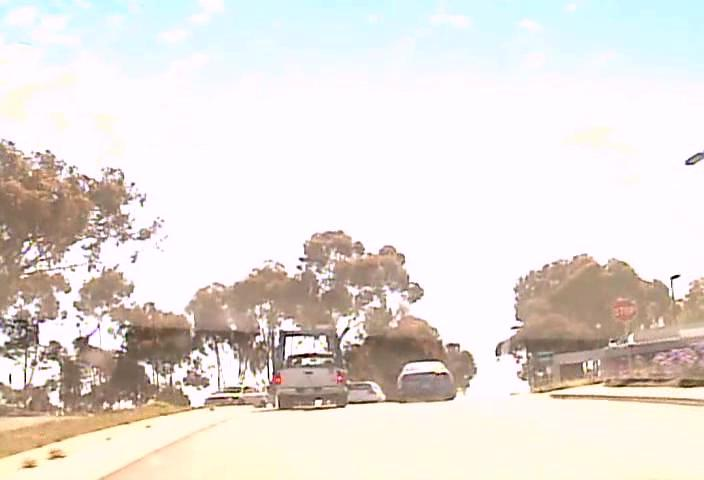stop: (612, 298, 638, 323)
